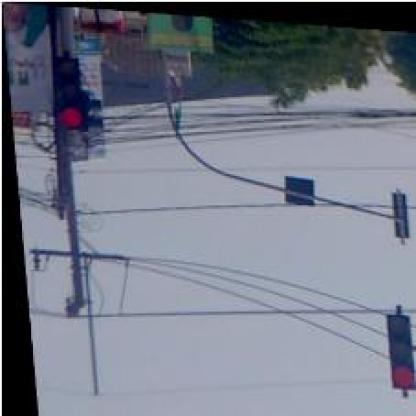red: (48, 53, 84, 130), (379, 309, 412, 384)
